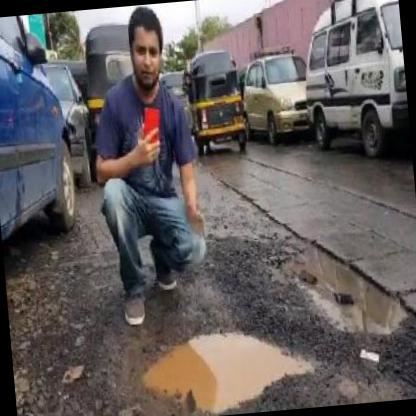pothole: (135, 317, 318, 416), (274, 233, 412, 342)
